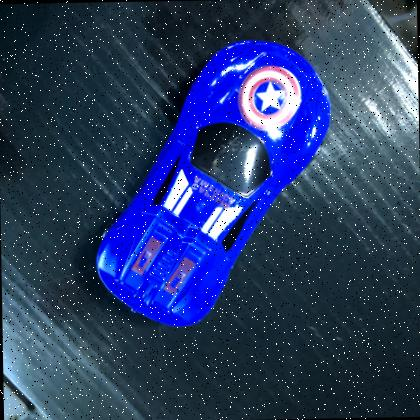Car: (83, 31, 340, 336)
